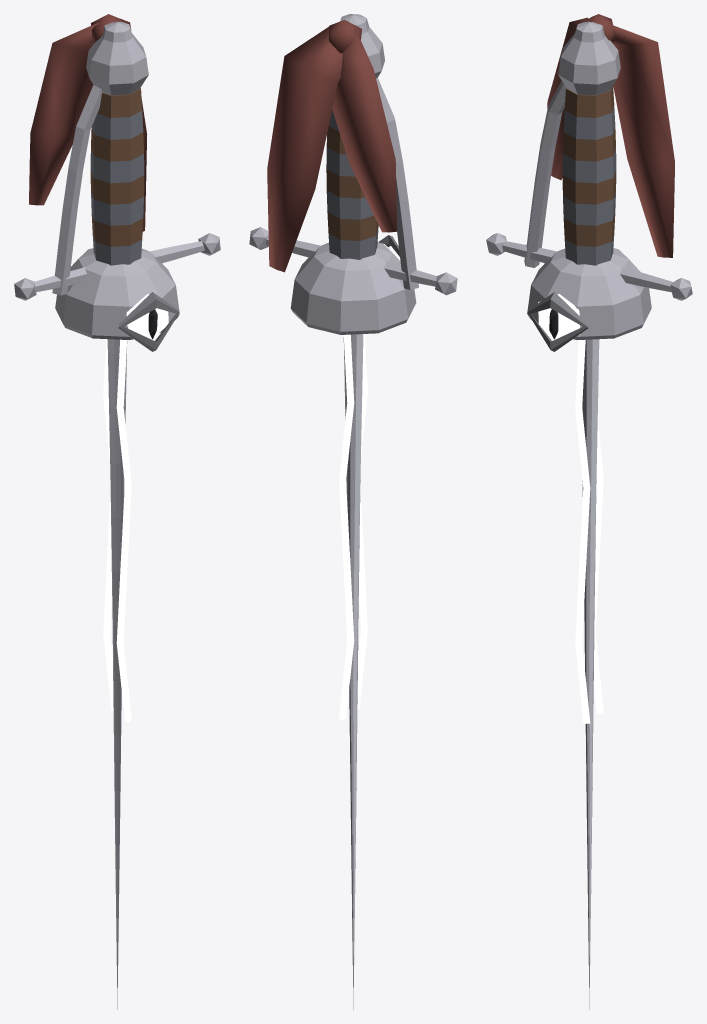
Rendered from blade-first-blood.glb.
3 renders of one model, left to right at view 1: azimuth 30°, elevation 25°; view 2: azimuth 150°, elevation 25°; view 3: azimuth 330°, elevation 25°, orthographic.
Parts seen in each view (by area): view 1: blade-first-blood, pulse_vein, blink_eye; view 2: blade-first-blood, pulse_vein; view 3: blade-first-blood, pulse_vein, blink_eye.
Boxes of the visible parts, x1,y1,x2,y2 form: blade-first-blood: (14, 14, 220, 1009); pulse_vein: (103, 339, 131, 722); blink_eye: (118, 292, 179, 351); blade-first-blood: (249, 14, 457, 1009); pulse_vein: (339, 334, 367, 720); blade-first-blood: (486, 14, 692, 1009); pulse_vein: (575, 339, 603, 723); blink_eye: (527, 292, 588, 351).
Bounding box in the file's own units: 0.2606 × 1.21 × 0.1537.
